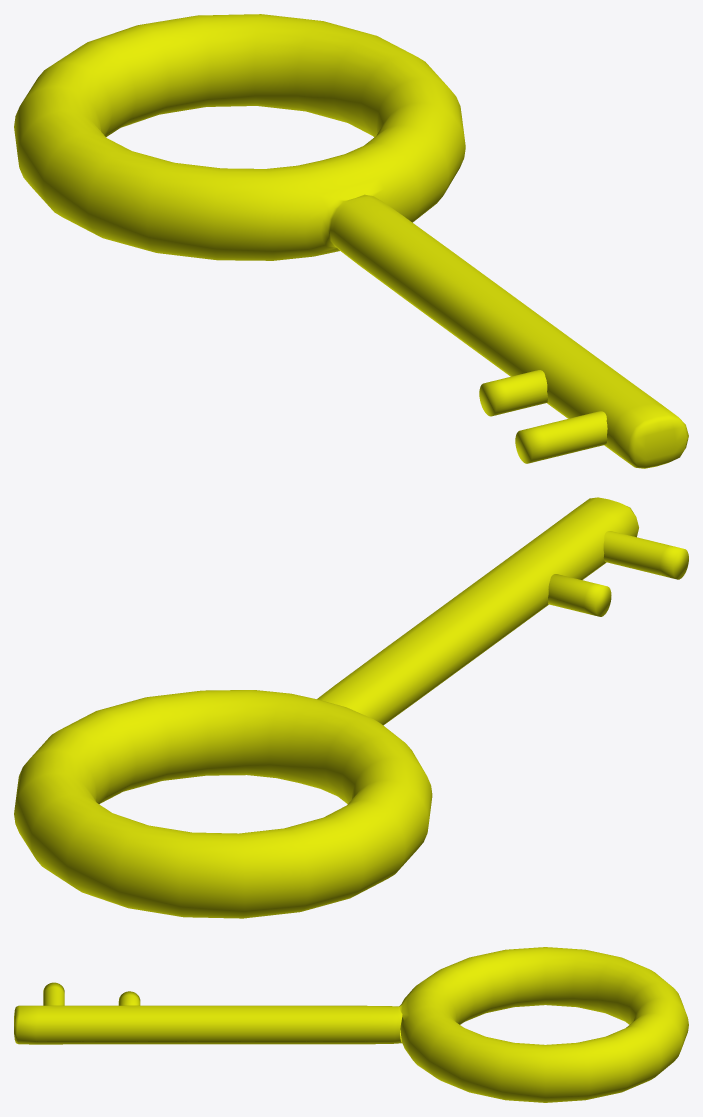
File: key.gltf
3 views of the same model, one above another, from view 1: azimuth 30°, elevation 25°; view 2: azimuth 150°, elevation 25°; view 3: azimuth 270°, elevation 25° (orthographic). The views are drawn at different scales.
Visible parts, largest first — view 1: Torus.001; view 2: Torus.001; view 3: Torus.001.
Boxes of the visible parts, x1,y1,x2,y2 form: Torus.001: (14, 14, 688, 468); Torus.001: (14, 497, 688, 918); Torus.001: (14, 947, 688, 1102).
Bounding box in the file's own units: 2.32 × 0.4777 × 5.46.
